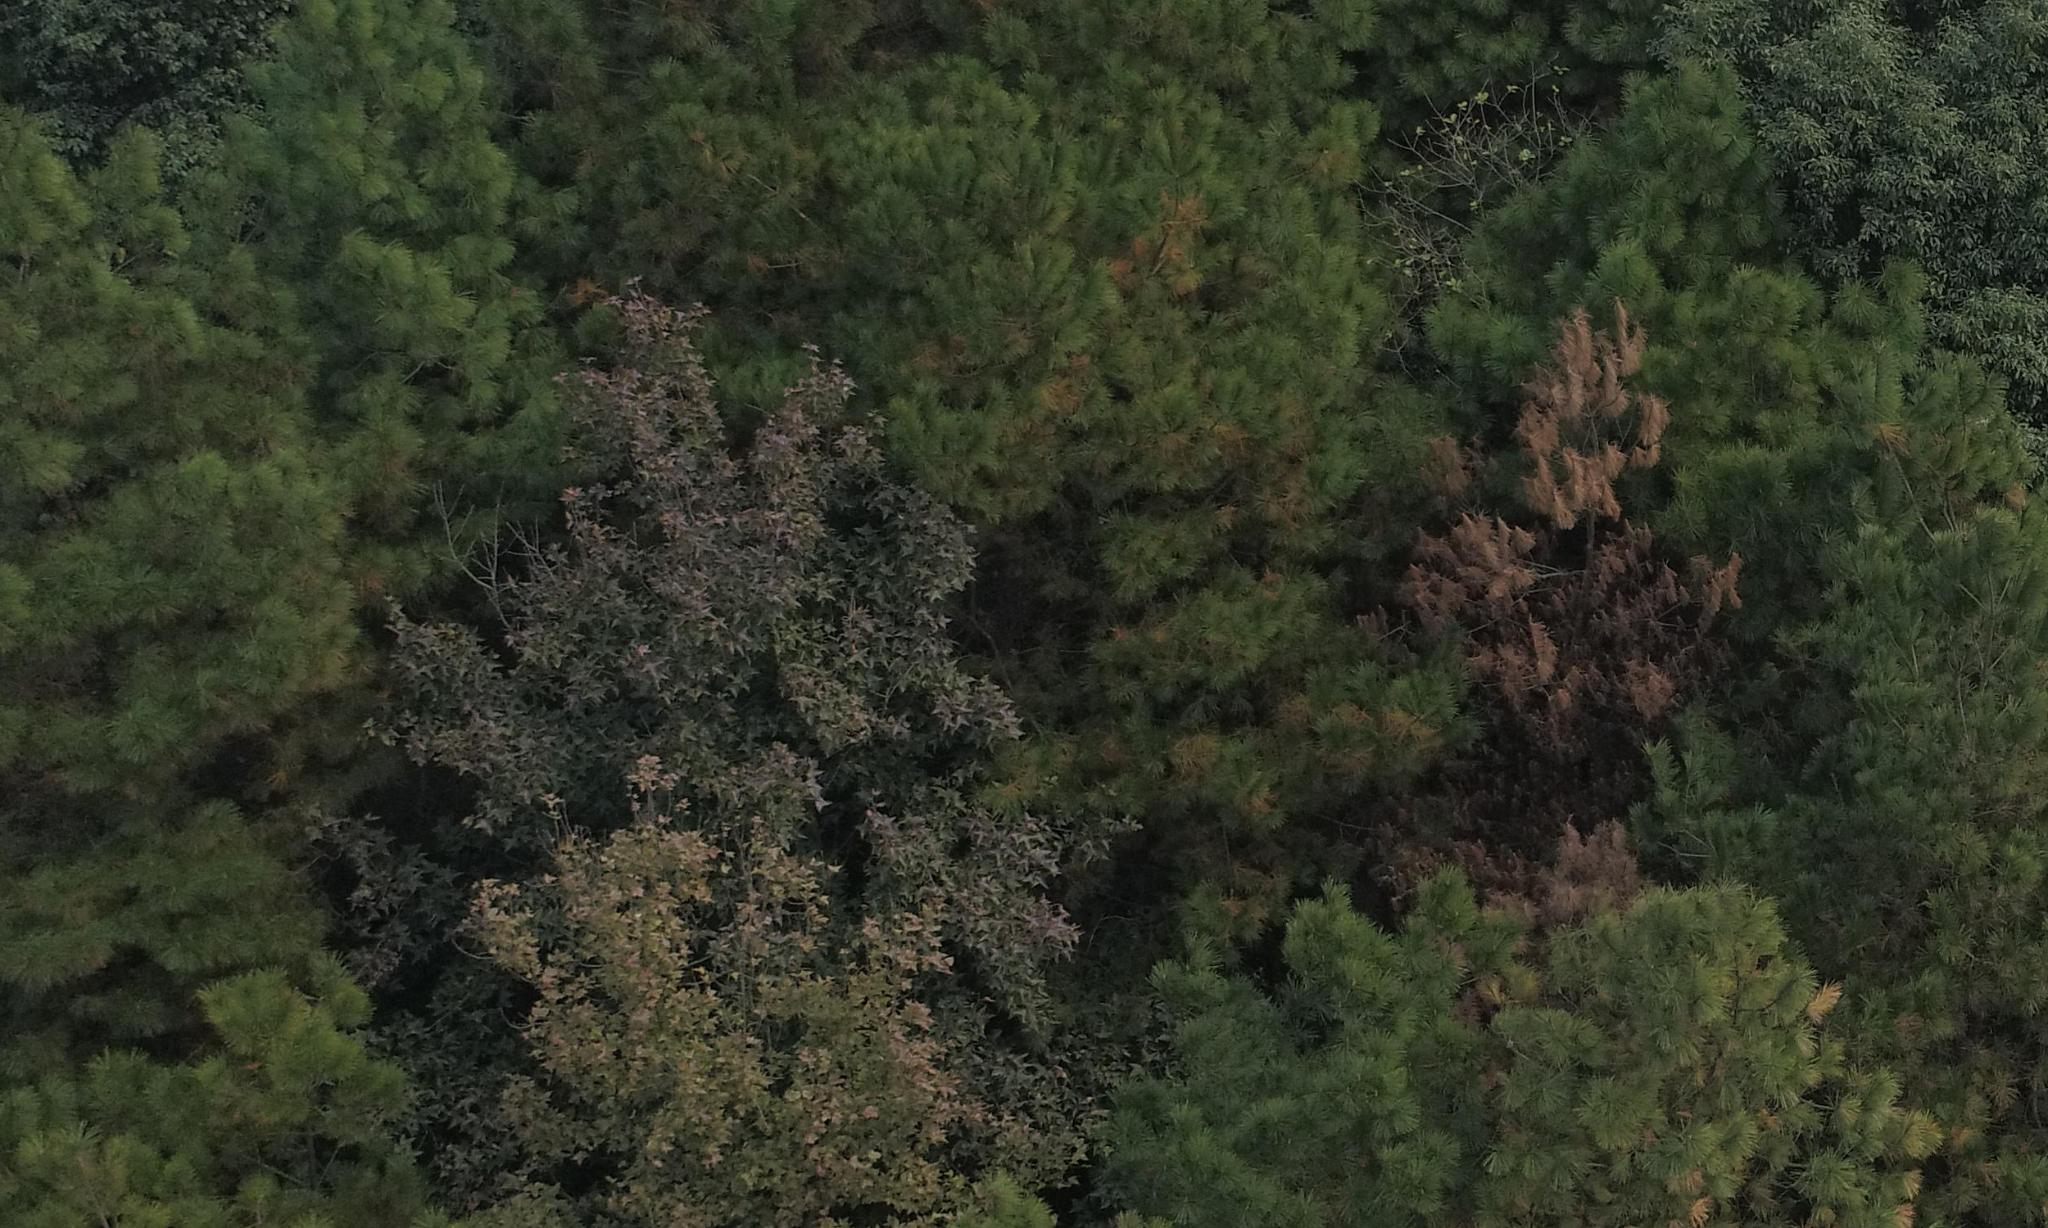heavy: (1453, 311, 1738, 760)
light: (1514, 898, 1919, 1221), (886, 247, 1115, 501)
